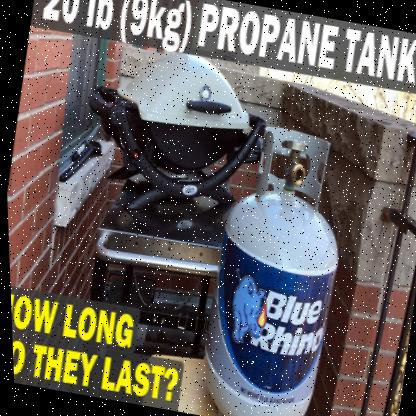gas-tank: (178, 102, 369, 415)
